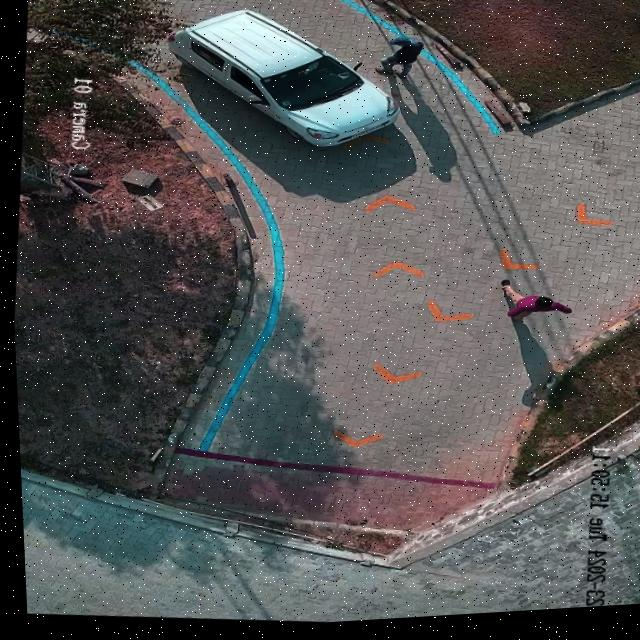car: (167, 12, 394, 150)
